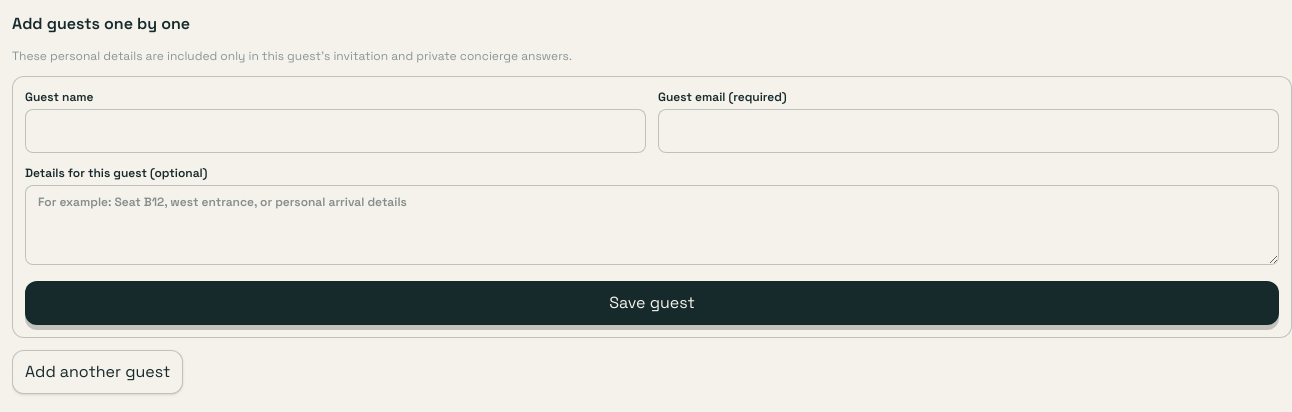
Test case: GuestRowsCard › requires an email and sends each guest’s private details to the guest API
Type "Alex Morgan" into the field labelled "Guest name" at (336, 131), box [25,109,646,153]
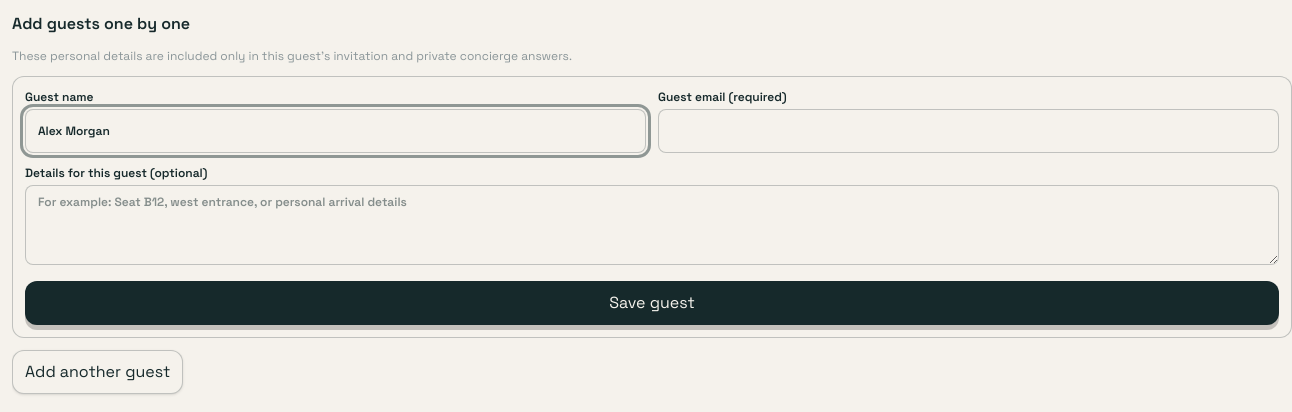
Type "Seat B12" into the text box labelled "Details for this guest (optional)" at (652, 225), box [25,185,1279,265]
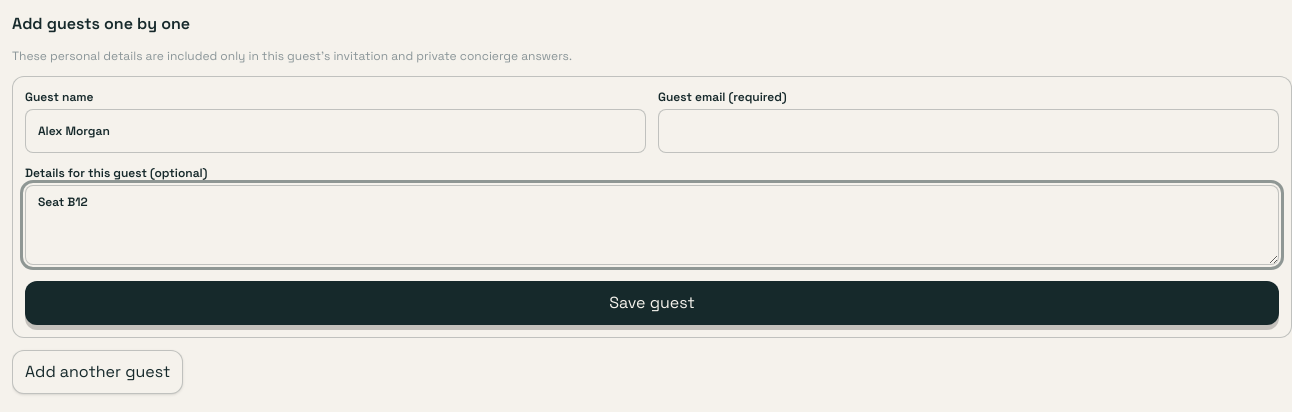
Click the button "Save guest" at (652, 303), box [25,281,1279,325]
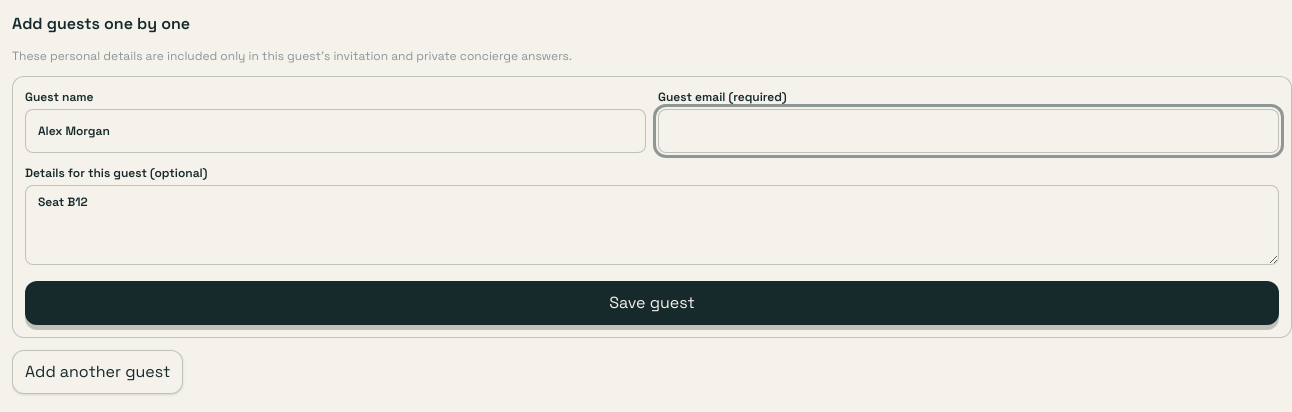
Type "alex@example.com" into the field labelled "Guest email (required)" at (968, 131), box [658,109,1279,153]
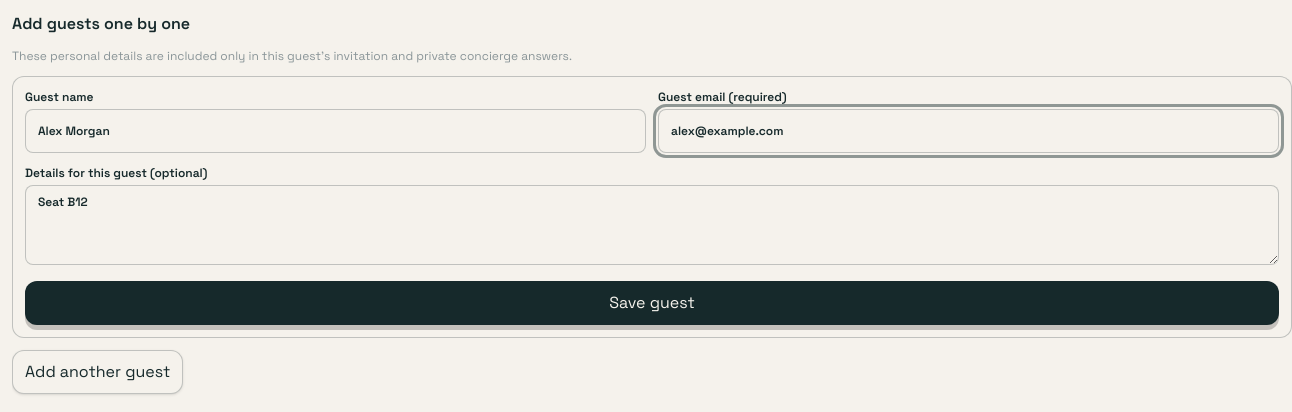
Click the button "Save guest" at (652, 303), box [25,281,1279,325]
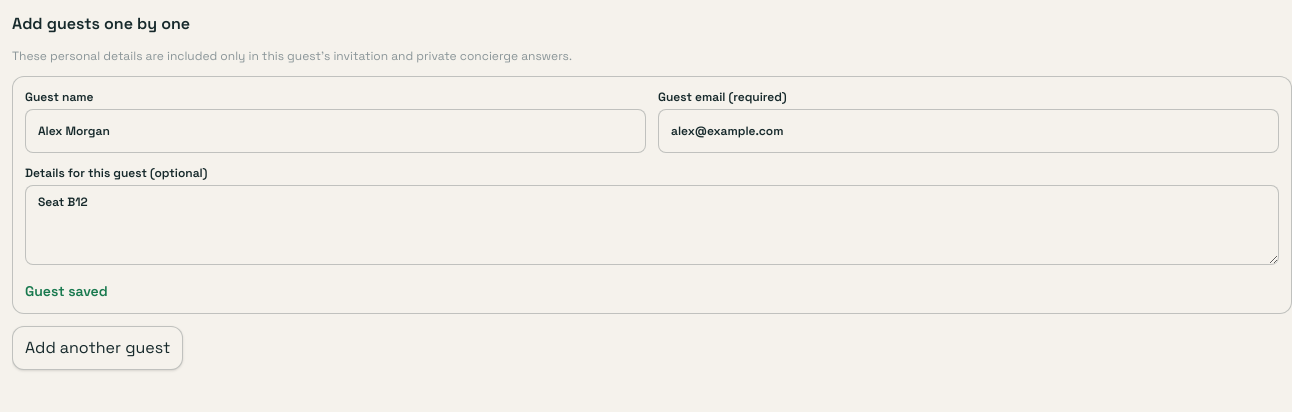
Now the text "Guest saved" is shown, box [25,282,108,300]
